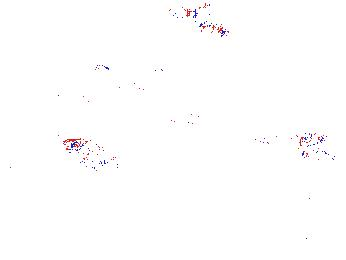X-ray fish: (61, 137, 115, 170), (53, 66, 99, 96)
glassfish: (159, 102, 240, 169), (228, 125, 330, 155)
red belly glassfish: (169, 7, 228, 37), (299, 144, 346, 164)
redtail glassfish: (92, 54, 168, 98), (77, 84, 121, 117), (181, 1, 219, 22)
